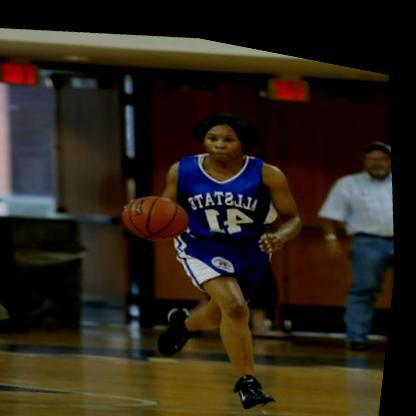basketball: (120, 179, 195, 245)
